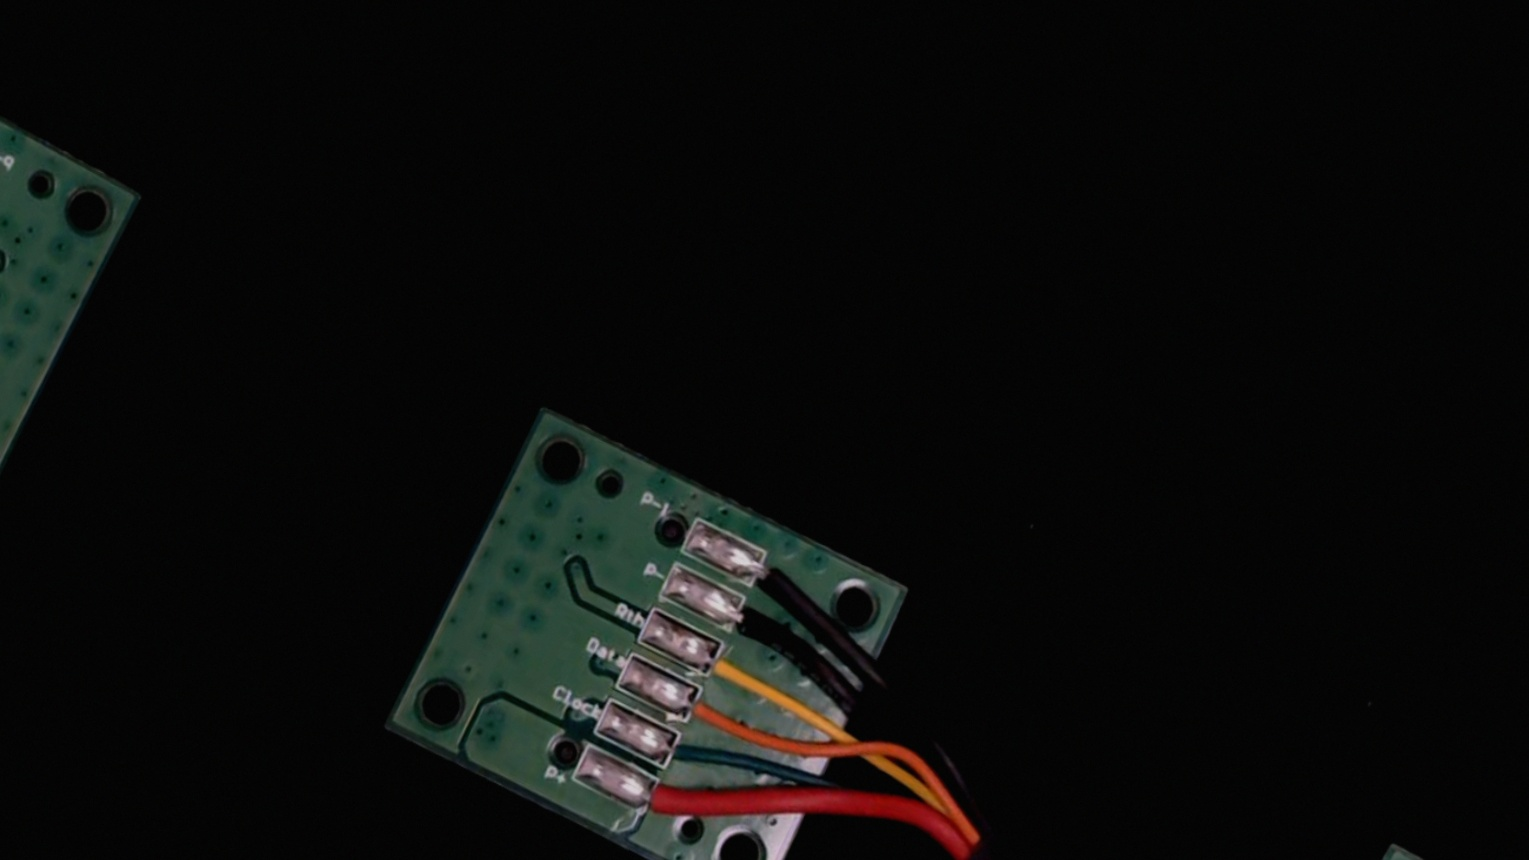Black: (705, 587, 809, 670)
Black1: (731, 542, 826, 620)
Green: (641, 720, 724, 791)
Orange: (664, 676, 755, 751)
Red: (615, 760, 715, 841)
Yellow: (685, 633, 789, 717)
